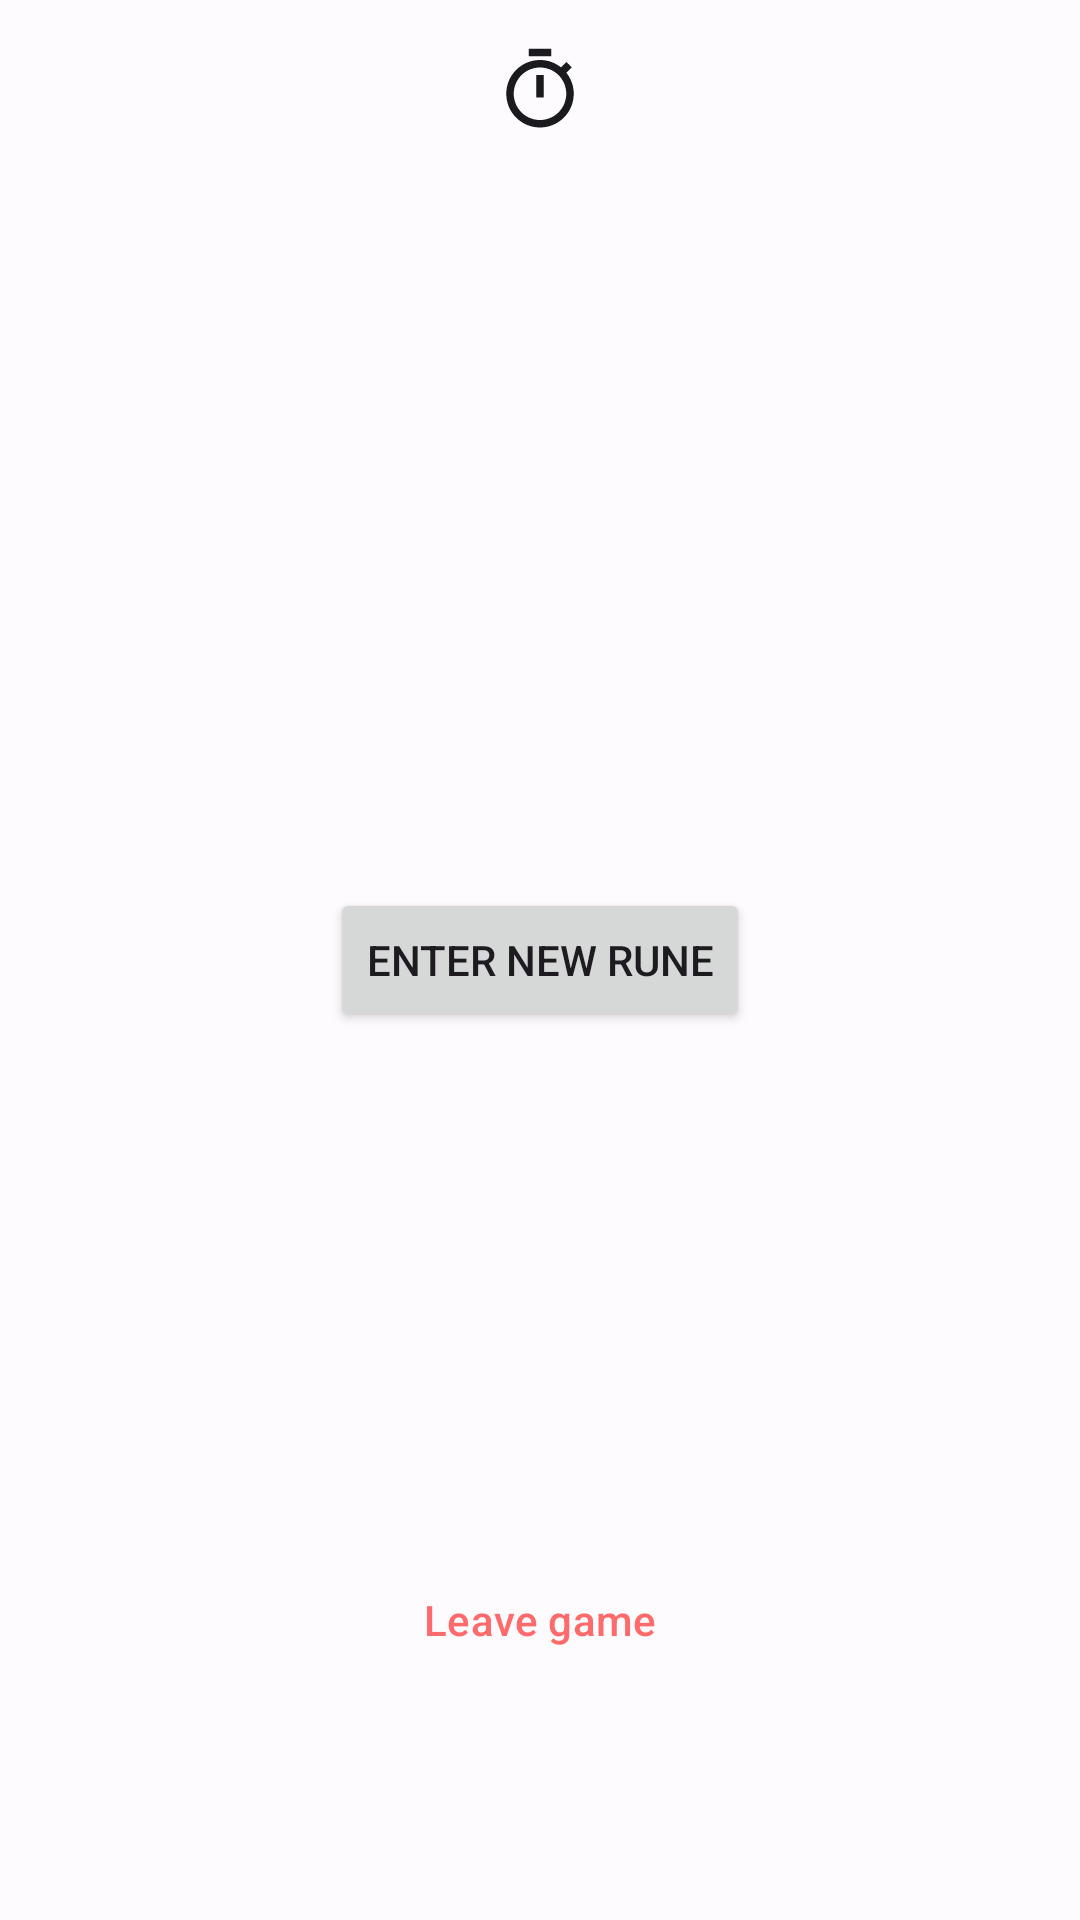

Where to tap for icons on this 1080 x 1920 app screen, as (x=x, y=y):
timer: (x=540, y=88)
